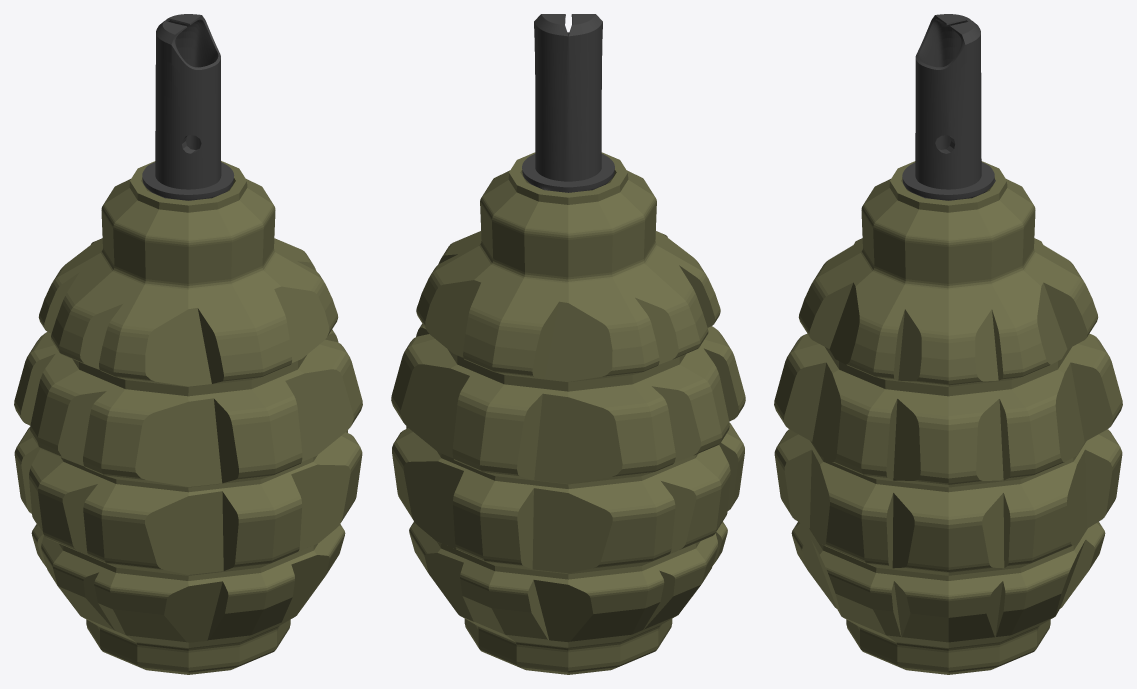
The model's file is grenade1.fbx.
The picture shows the model from 3 angles, left to right: view 1: azimuth 30°, elevation 25°; view 2: azimuth 150°, elevation 25°; view 3: azimuth 270°, elevation 25°; orthographic projection.
Visible parts, largest first — view 1: Hand_Grenade:Mesh; view 2: Hand_Grenade:Mesh; view 3: Hand_Grenade:Mesh.
Part boxes in pixels (bbox=[...]): Hand_Grenade:Mesh: bbox=[14, 14, 362, 674]; Hand_Grenade:Mesh: bbox=[391, 14, 745, 674]; Hand_Grenade:Mesh: bbox=[774, 14, 1122, 674].
Size of the model in its own units: 4.93 by 9.63 by 4.93.
